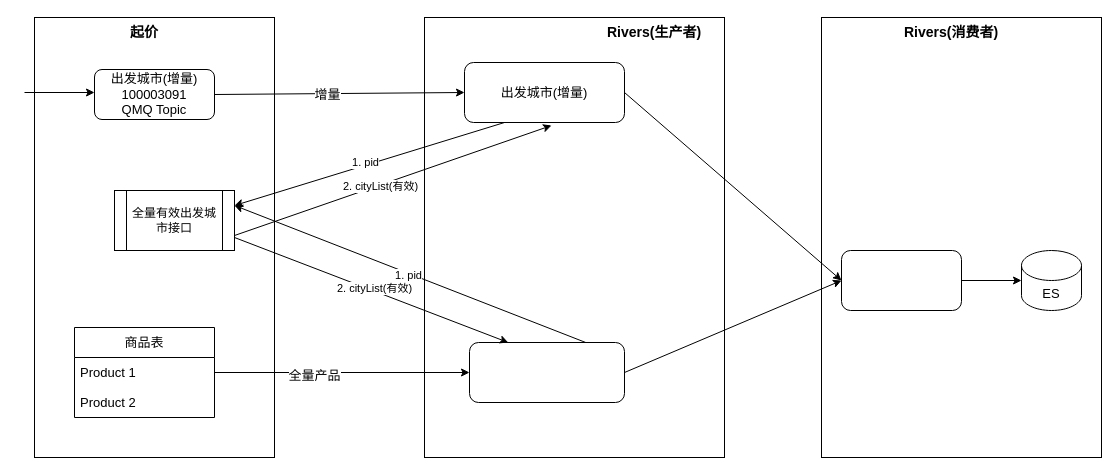
Some shapes in this 1119 by 475 pixel diagram are drawn without their labels. Here are the shapes that lost their labels. From the top down, the centre of each, then its label:
the point at 901,280: 消费者
the point at 546,372: 出发城市(全量)
